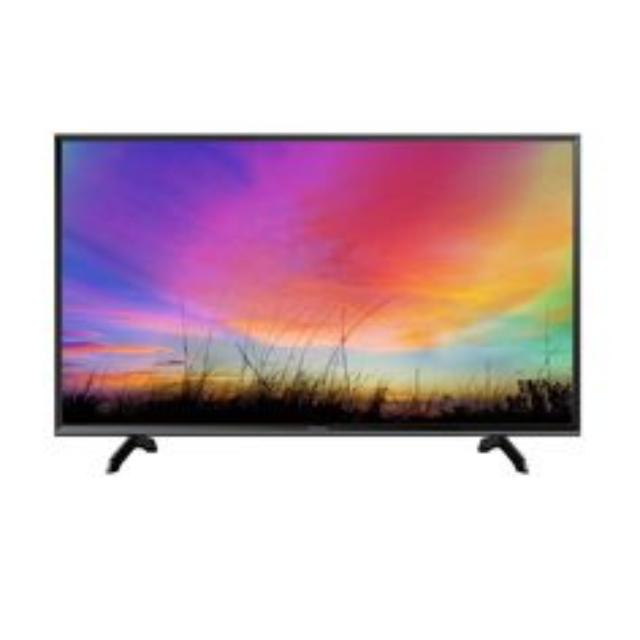Flat-Panel-TV: (9, 92, 604, 508)
